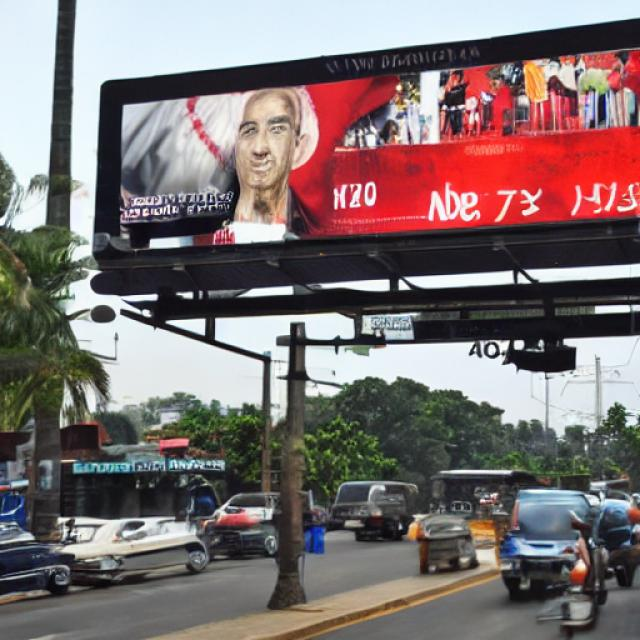Billboard: (91, 9, 640, 302)
